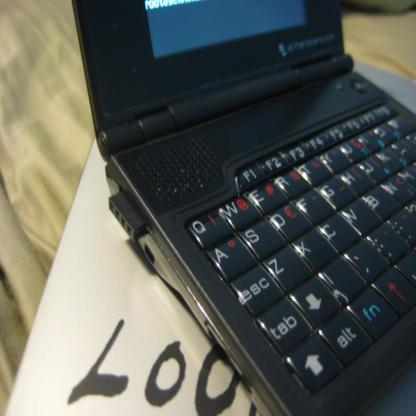board: (70, 0, 415, 415)
